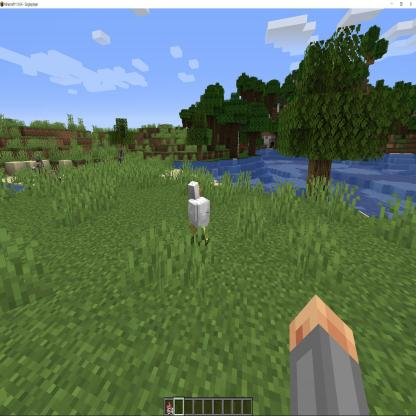minecraft-pigs: (186, 182, 210, 246)
